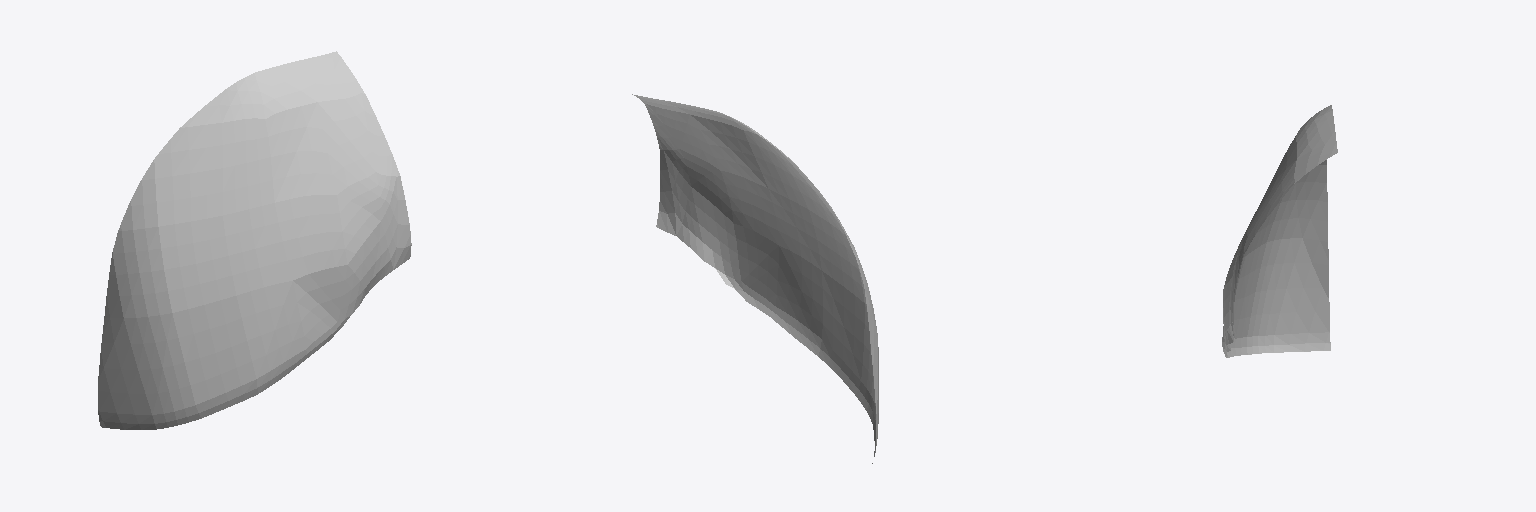
File: baseLiverGen_frontHalf_cut_obs_476points.obj
The picture shows the model from 3 angles: view 1: azimuth 30°, elevation 25°; view 2: azimuth 150°, elevation 25°; view 3: azimuth 270°, elevation 25°; orthographic projection.
Parts seen in each view (by area): view 1: Plane.001; view 2: Plane.001; view 3: Plane.001.
Part boxes in pixels (x1,y1,x2,y2): Plane.001: (98, 51, 411, 429); Plane.001: (632, 94, 878, 463); Plane.001: (1222, 105, 1337, 357).
Size of the model in its own units: 0.1291 by 0.1467 by 0.0487.